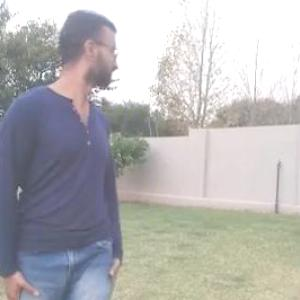follow: (0, 7, 129, 299)
